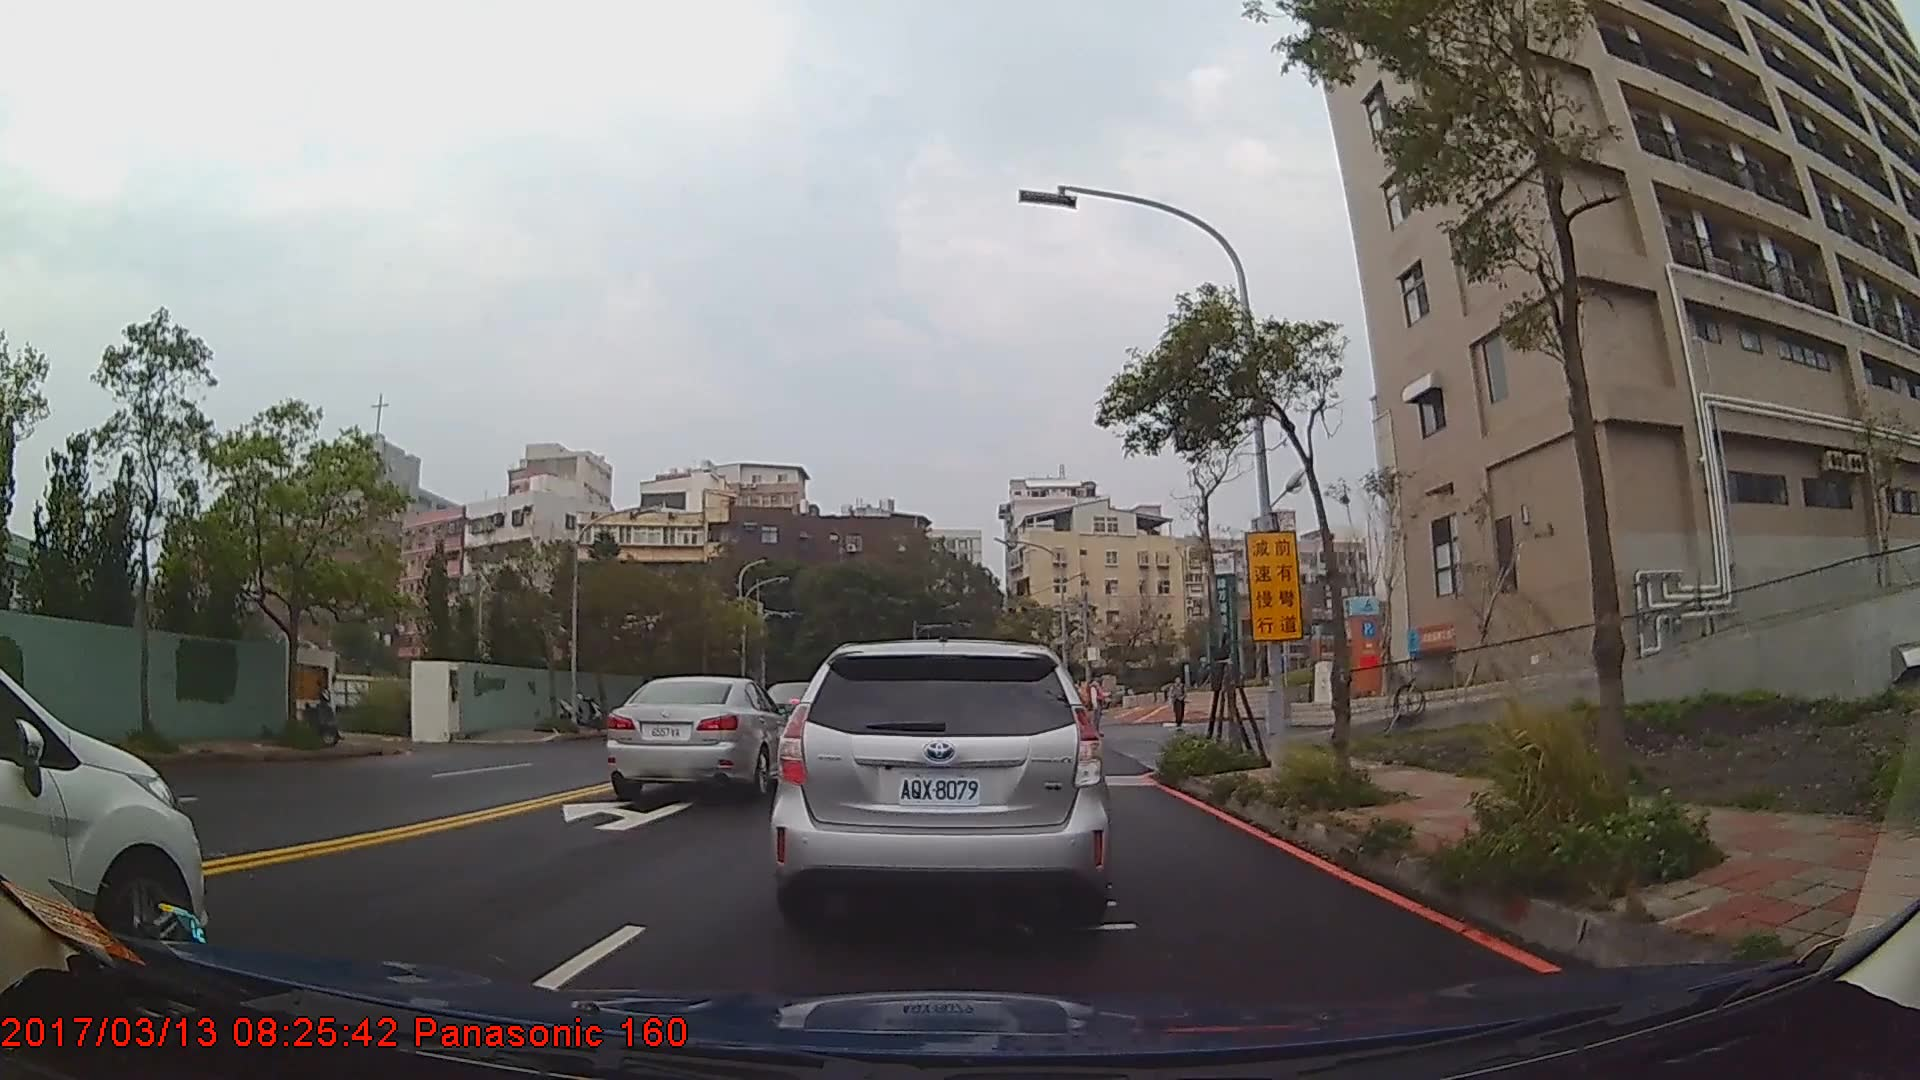pedestrian: (1086, 668, 1112, 742), (1171, 677, 1191, 732)
vehicle: (770, 637, 1113, 942), (0, 666, 208, 969), (606, 674, 793, 800)
